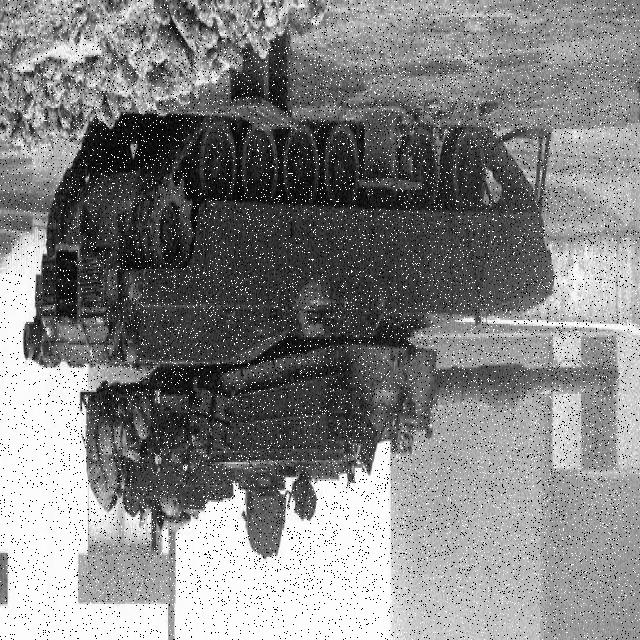MIL_MBT: (69, 46, 626, 604)
